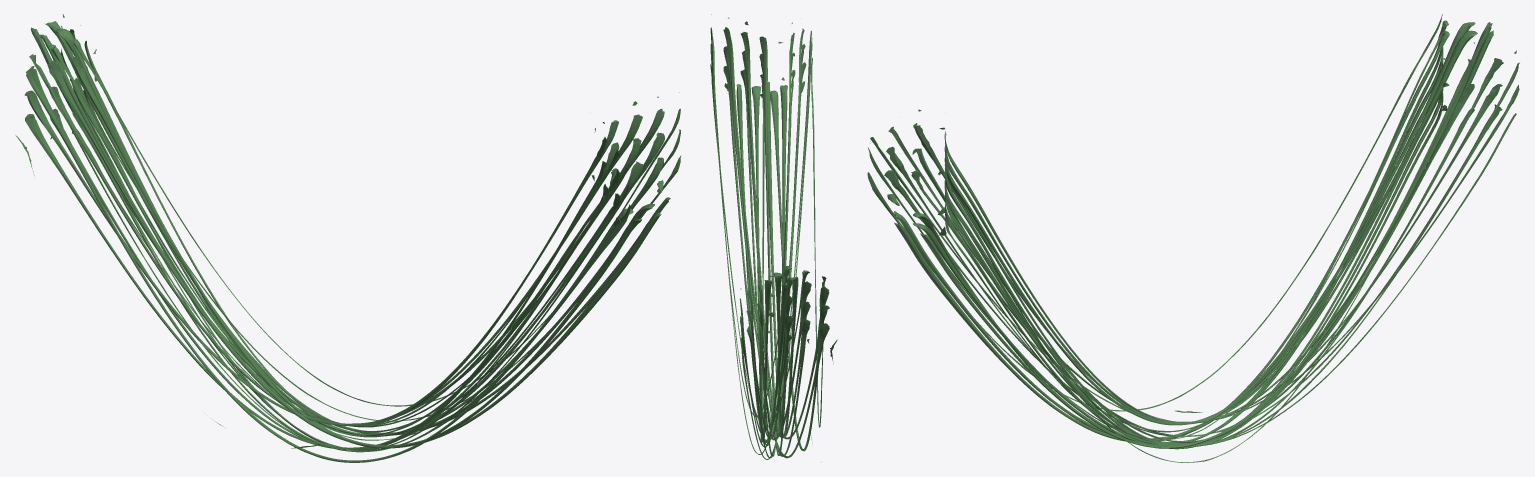
File: sliim2.fbx
3 renders of one model, left to right at view 1: azimuth 30°, elevation 25°; view 2: azimuth 150°, elevation 25°; view 3: azimuth 270°, elevation 25°, orthographic. The views are drawn at different scales.
Visible parts, largest first — view 1: Retopo_slime.005; view 2: Retopo_slime.005; view 3: Retopo_slime.005.
Boxes of the visible parts, x1=… form: Retopo_slime.005: x1=15, y1=14, x2=681, y2=462; Retopo_slime.005: x1=710, y1=14, x2=837, y2=459; Retopo_slime.005: x1=867, y1=14, x2=1519, y2=462.
Bounding box in the file's own units: 915 × 848 × 1265.
